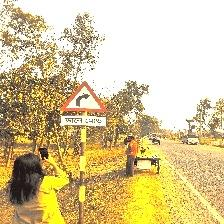Right-turn: (59, 82, 107, 128)
